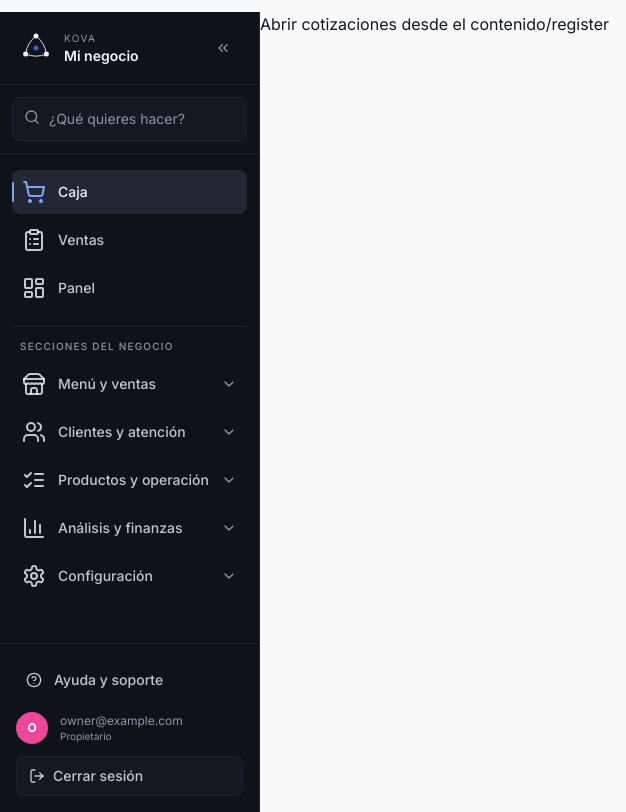
Scenario: simple task navigation and complete discovery › does not expose order creation search results when the order feature is disabled
Type "crear pedido" into the search field named "Buscar sección" at (130, 119), box [12, 97, 247, 141]
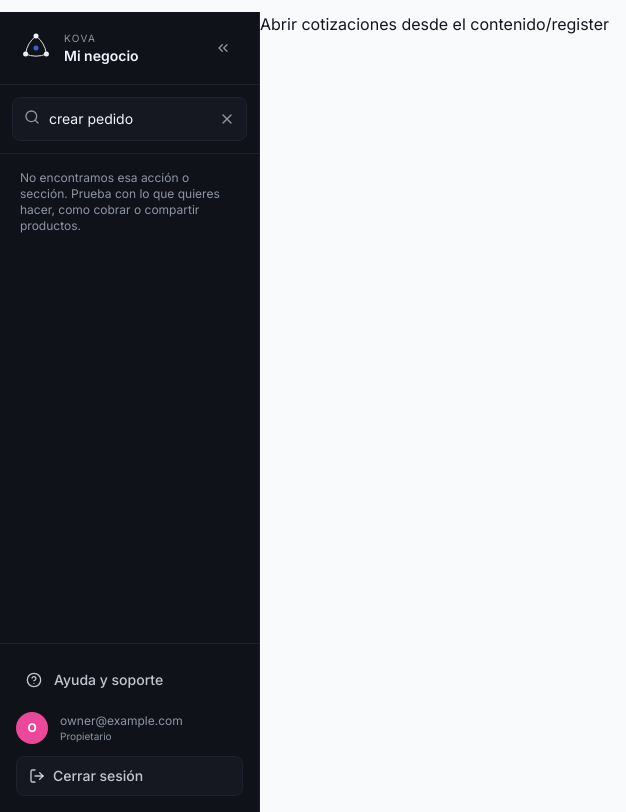
Result: no the link "Caja" are shown
